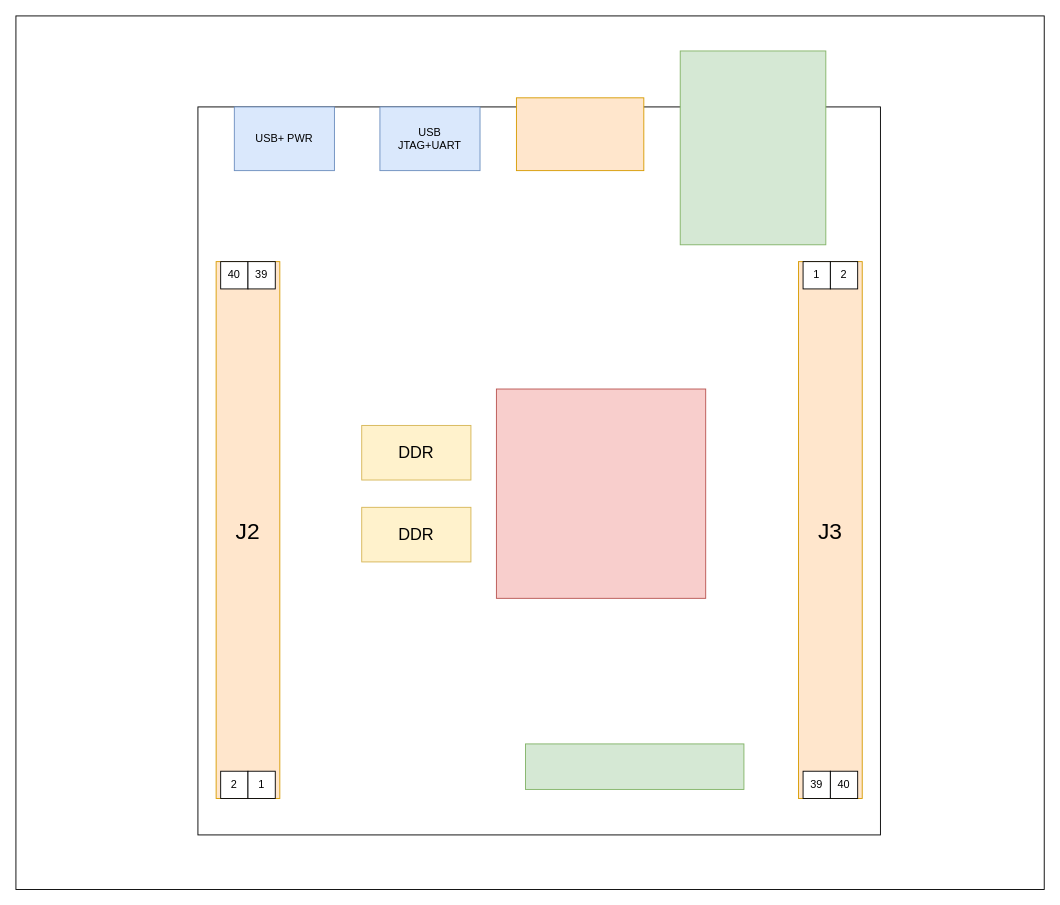
The diagram is 1060 pixels wide and 905 high, and some of its shapes have lost their labels. Each missing label, with the centre of its shape:
"FPGA" belongs at point 600,493.
"HDMI OUT" belongs at point 580,134.
"LCD 接口" belongs at point 634,766.
"以太网" belongs at point 752,147.
